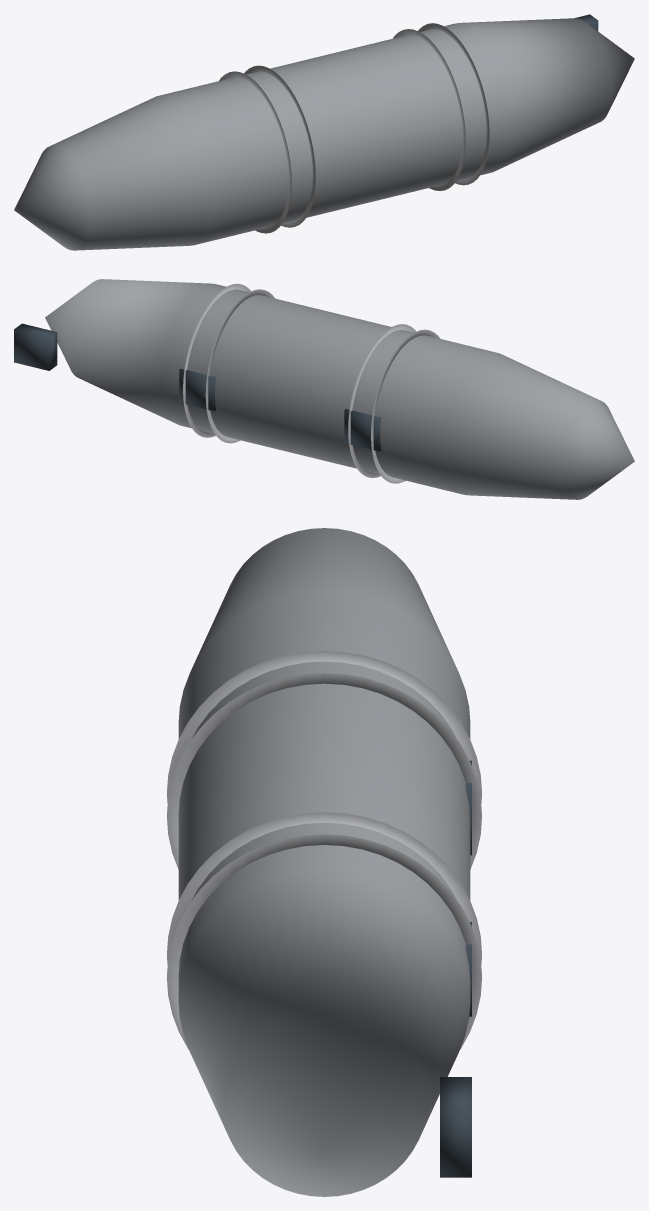
Rendered from US_DECOY_ADC_Mk5_LOD0.fbx.
The picture shows the model from 3 angles, top to bottom: view 1: azimuth 30°, elevation 25°; view 2: azimuth 150°, elevation 25°; view 3: azimuth 270°, elevation 25°; orthographic projection. The views are drawn at different scales.
Parts seen in each view (by area): view 1: WPN_US_DECOY_ADC_Mk5_LOD0_Body, WPN_US_DECOY_ADC_Mk5_LOD0_Detail; view 2: WPN_US_DECOY_ADC_Mk5_LOD0_Body, WPN_US_DECOY_ADC_Mk5_LOD0_Seeker, WPN_US_DECOY_ADC_Mk5_LOD0_Detail; view 3: WPN_US_DECOY_ADC_Mk5_LOD0_Body, WPN_US_DECOY_ADC_Mk5_LOD0_Detail, WPN_US_DECOY_ADC_Mk5_LOD0_Seeker.
Boxes of the visible parts, x1,y1,x2,y2 form: WPN_US_DECOY_ADC_Mk5_LOD0_Body: [14, 18, 634, 250]; WPN_US_DECOY_ADC_Mk5_LOD0_Detail: [219, 23, 489, 233]; WPN_US_DECOY_ADC_Mk5_LOD0_Body: [45, 279, 634, 499]; WPN_US_DECOY_ADC_Mk5_LOD0_Seeker: [14, 323, 381, 451]; WPN_US_DECOY_ADC_Mk5_LOD0_Detail: [183, 283, 440, 483]; WPN_US_DECOY_ADC_Mk5_LOD0_Body: [178, 528, 470, 1196]; WPN_US_DECOY_ADC_Mk5_LOD0_Detail: [167, 651, 481, 1049]; WPN_US_DECOY_ADC_Mk5_LOD0_Seeker: [440, 760, 471, 1177].
Bounding box in the file's own units: 0.7 × 0.162 × 0.162.
